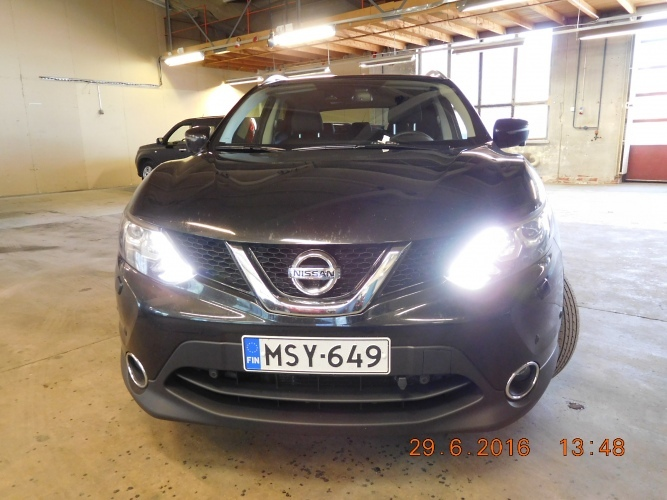license: (240, 330, 388, 374)
